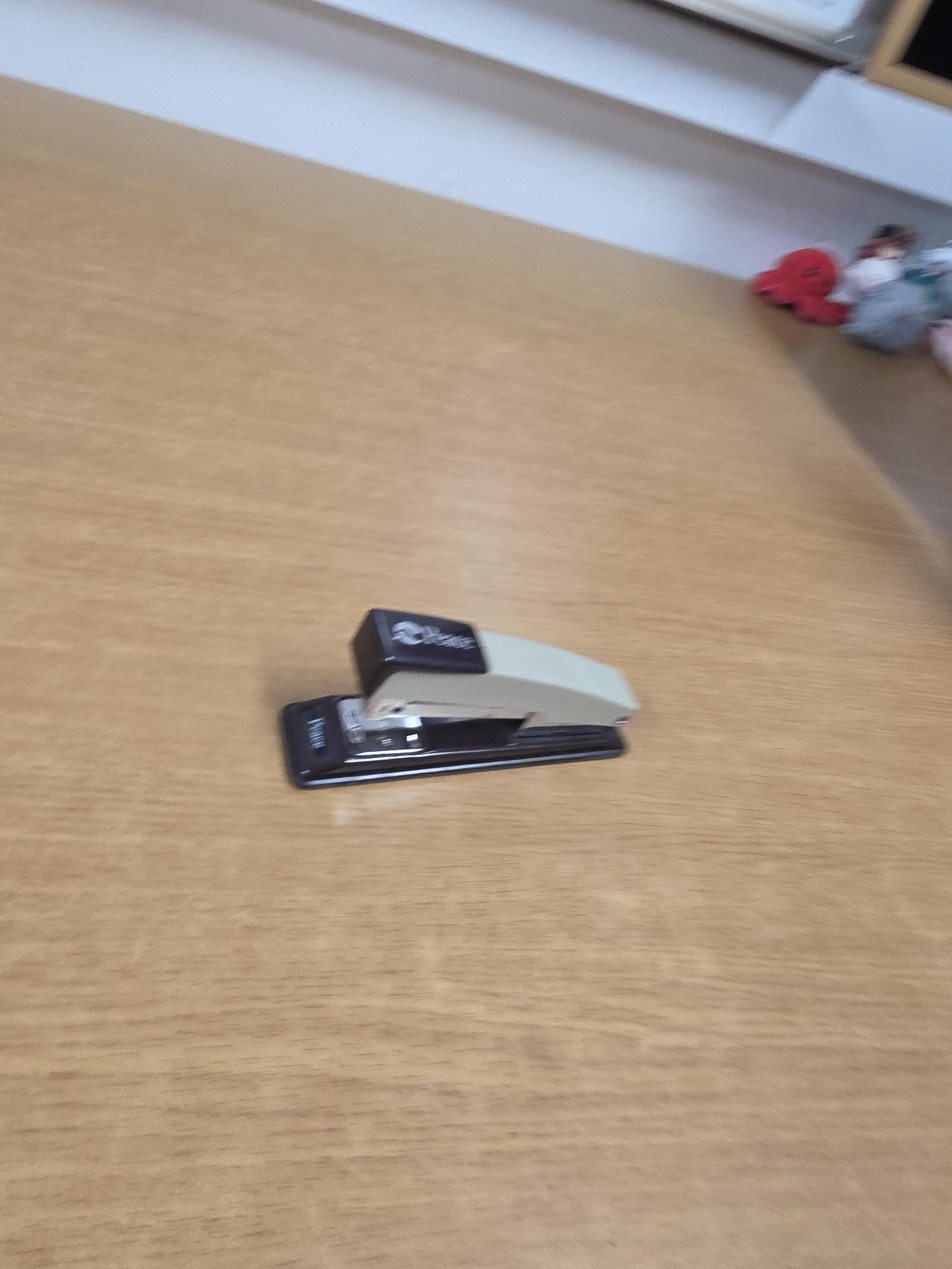stapler: (278, 607, 641, 791)
